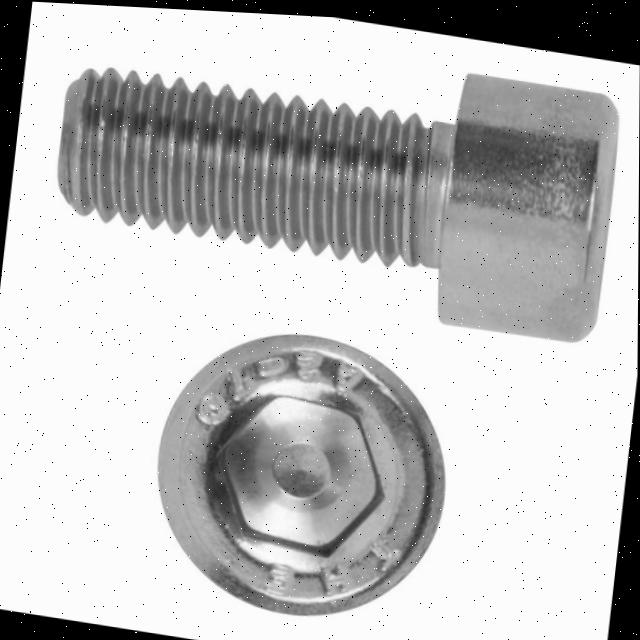Hex Socket Allen: (144, 315, 459, 638)
